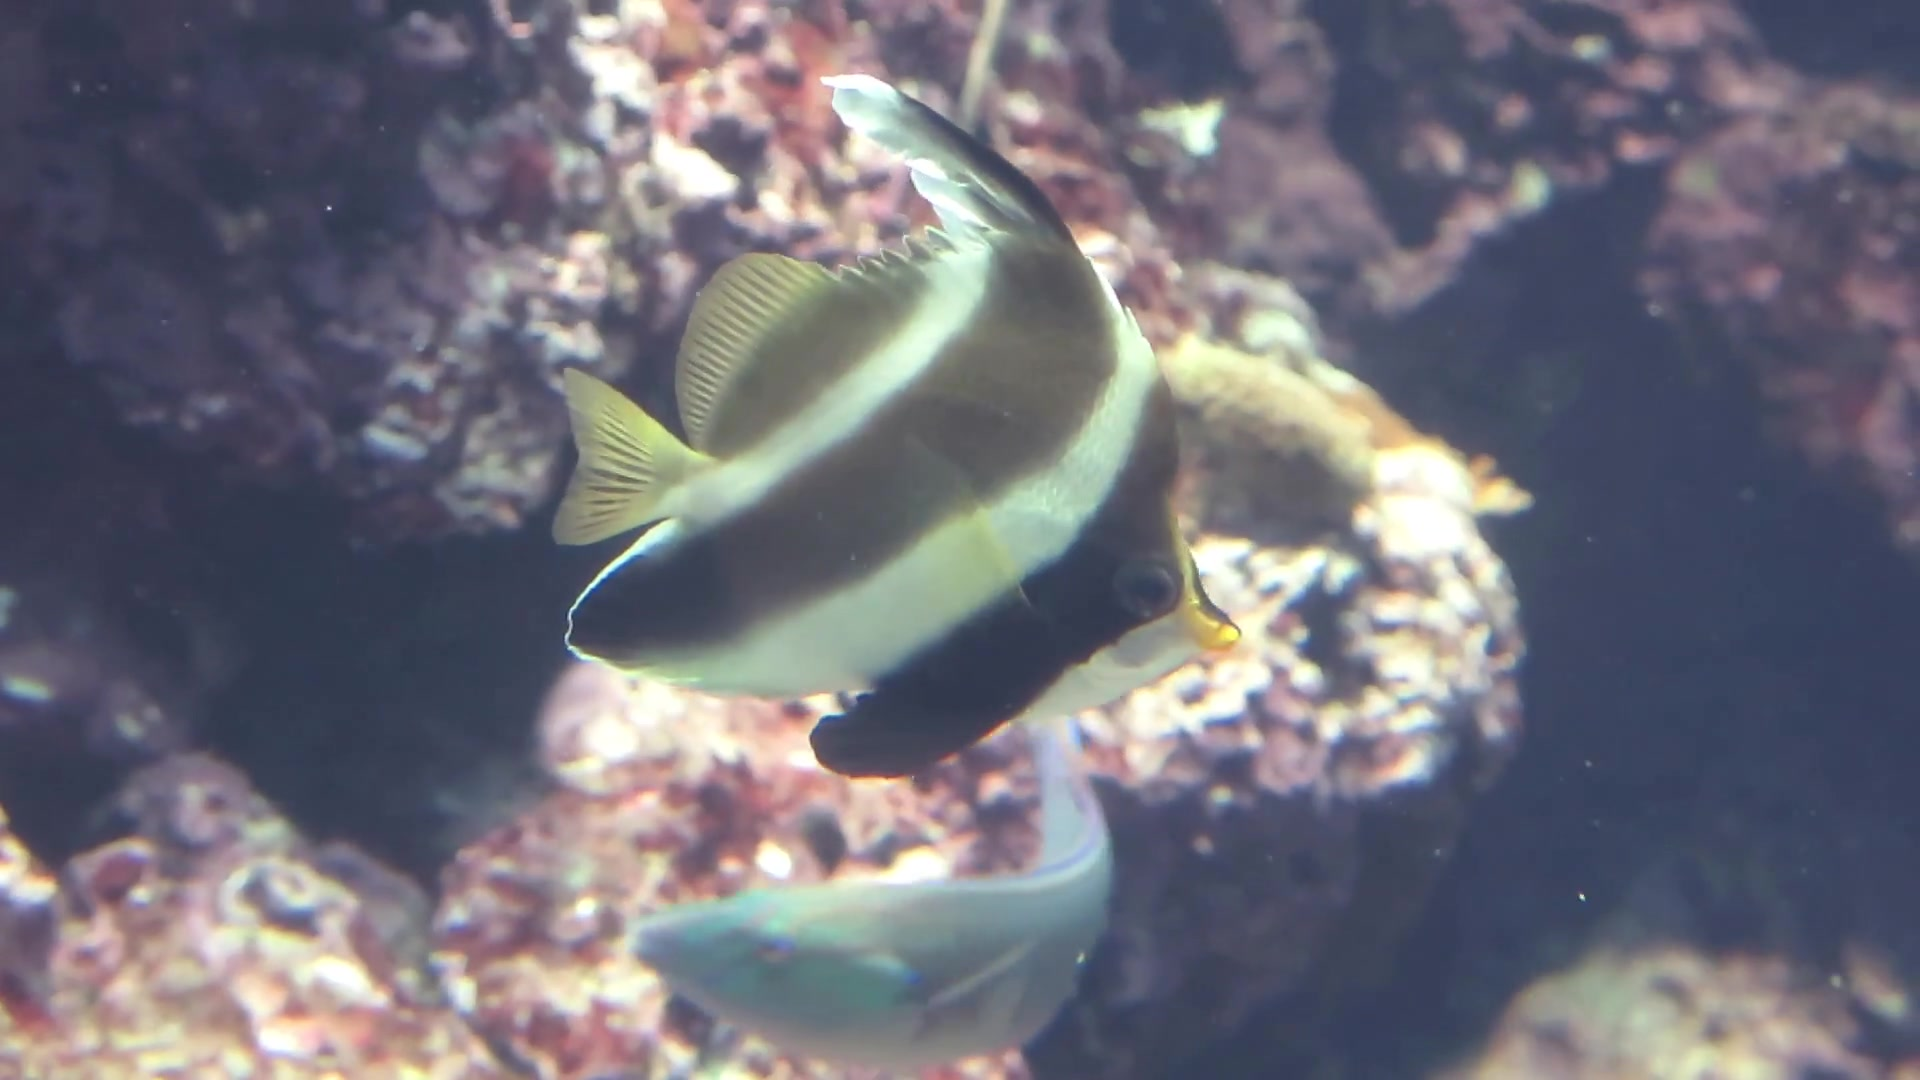Heniochus chrysostomus: (542, 66, 1240, 756)
